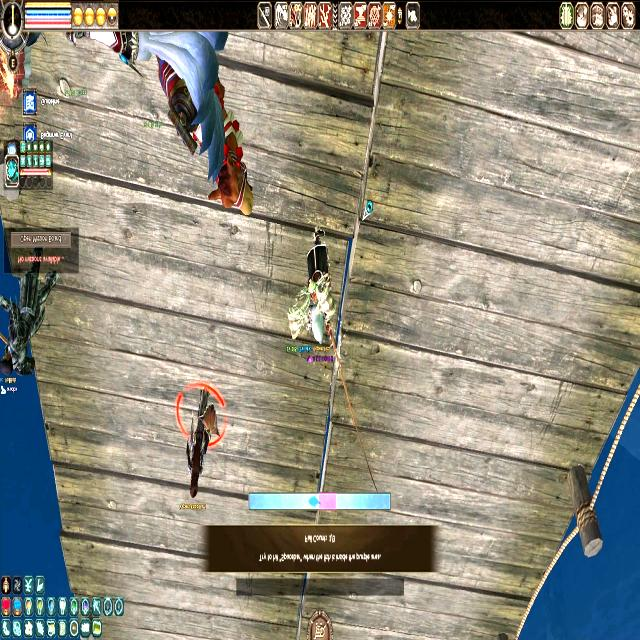fishes: (307, 494, 319, 508)
